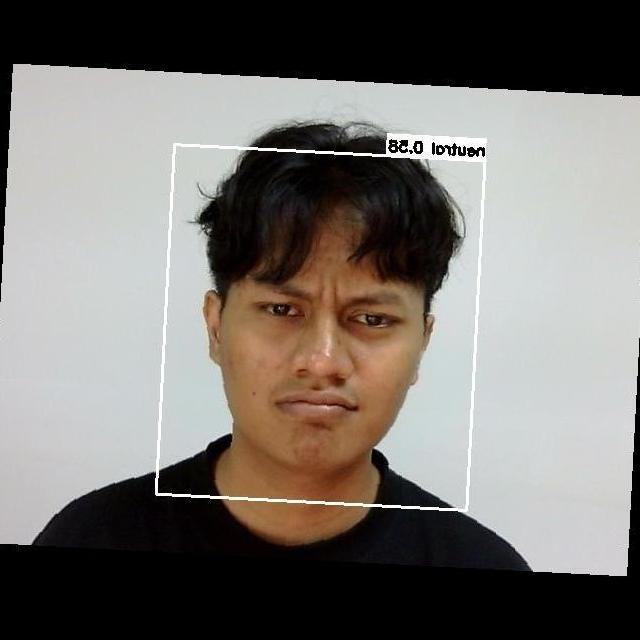Sad: (229, 256, 429, 460)
